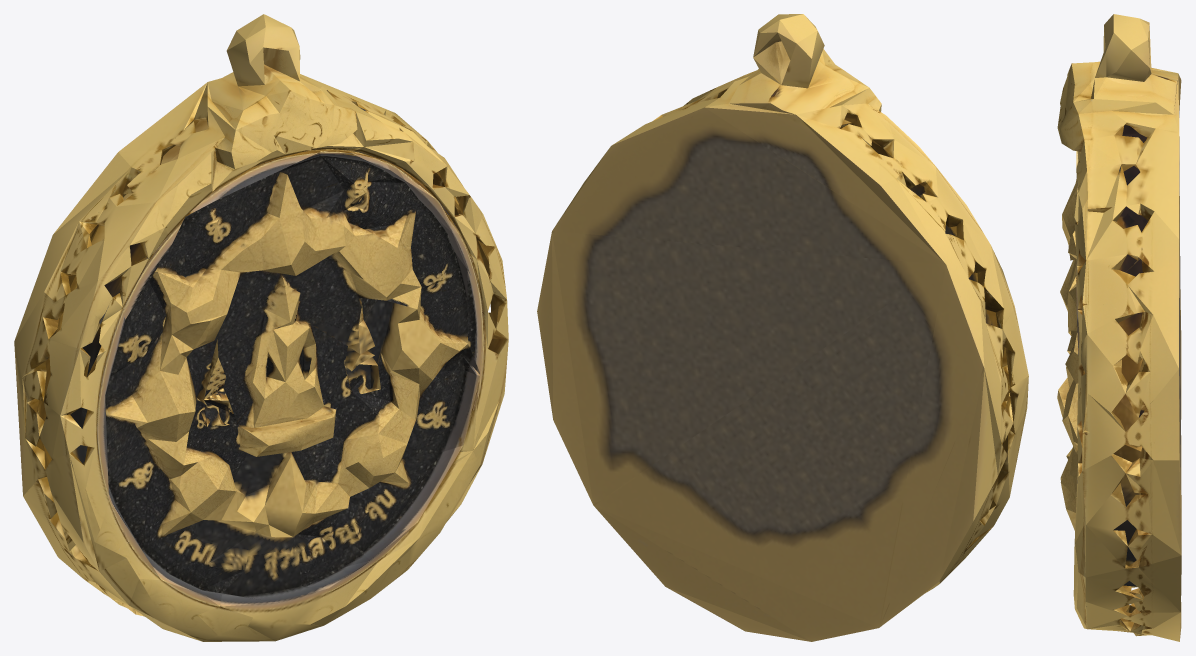
Rendered from remeshed-jatukham.glb.
3 renders of one model, left to right at view 1: azimuth 30°, elevation 25°; view 2: azimuth 150°, elevation 25°; view 3: azimuth 270°, elevation 25°, orthographic. The views are drawn at different scales.
Parts seen in each view (by area): view 1: output_unwrapped; view 2: output_unwrapped; view 3: output_unwrapped.
Part boxes in pixels (<box>): output_unwrapped: <box>14,14,508,641</box>; output_unwrapped: <box>537,14,1028,641</box>; output_unwrapped: <box>1057,14,1181,641</box>.
Size of the model in its own units: 1.49 by 1.89 by 0.3548.
Materials: 1 (1 with a texture image).
